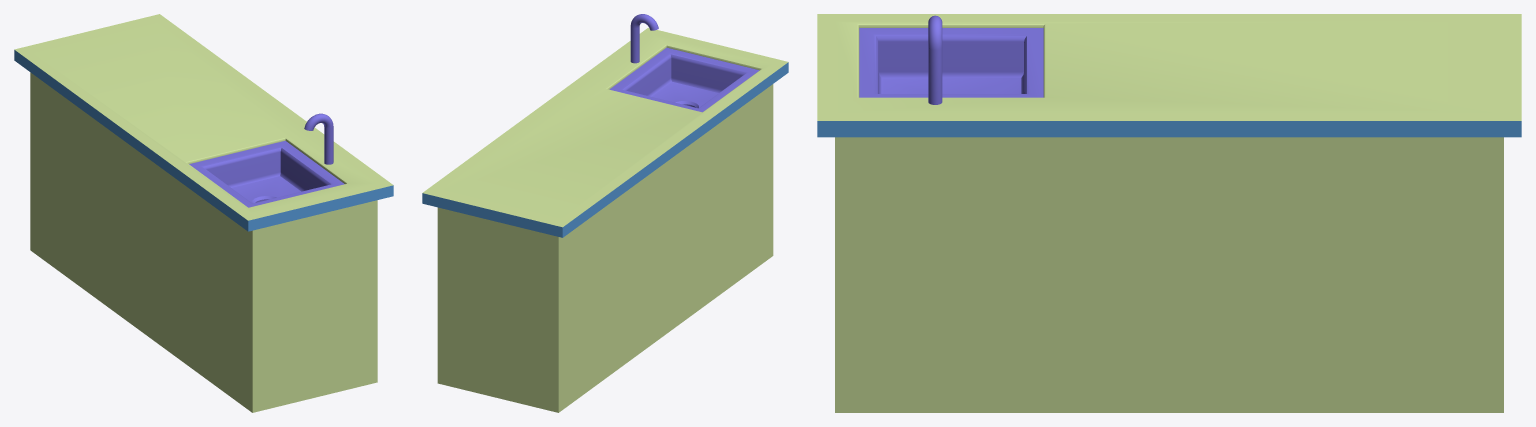
File: DeskSink.fbx
The picture shows the model from 3 angles, left to right: view 1: azimuth 30°, elevation 25°; view 2: azimuth 150°, elevation 25°; view 3: azimuth 270°, elevation 25°; orthographic projection. The views are drawn at different scales.
Parts seen in each view (by area): view 1: DeskSink; view 2: DeskSink; view 3: DeskSink.
Part boxes in pixels (bbox=[...]): DeskSink: bbox=[14, 14, 393, 412]; DeskSink: bbox=[422, 14, 788, 412]; DeskSink: bbox=[817, 14, 1521, 412].
Bounding box in the file's own units: 0.6756 × 1.11 × 1.88.
